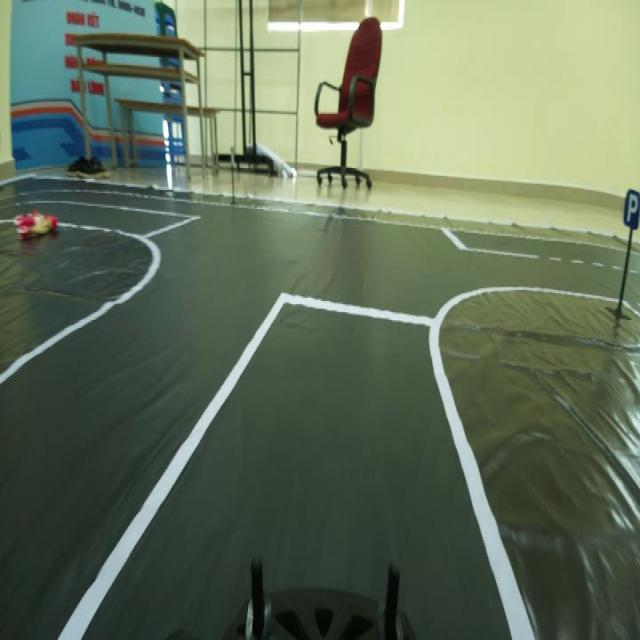parking: (619, 181, 639, 232)
